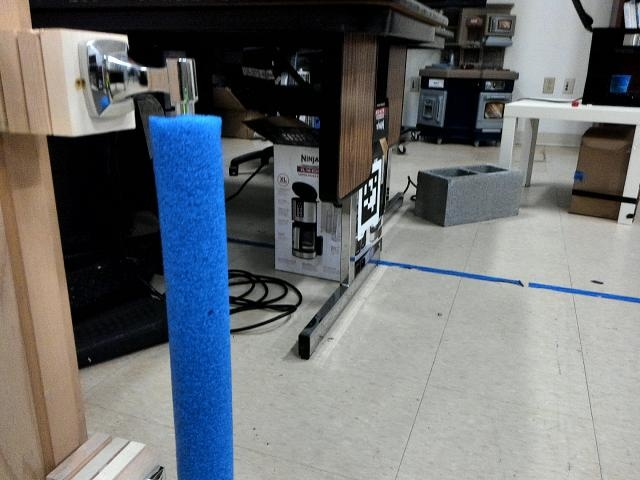noodle_handle: (143, 88, 242, 480)
